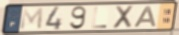4: (44, 6, 65, 31)
9: (69, 5, 88, 31)
A: (132, 5, 158, 28)
L: (91, 6, 108, 29)
M: (19, 7, 45, 31)
X: (111, 4, 136, 30)
